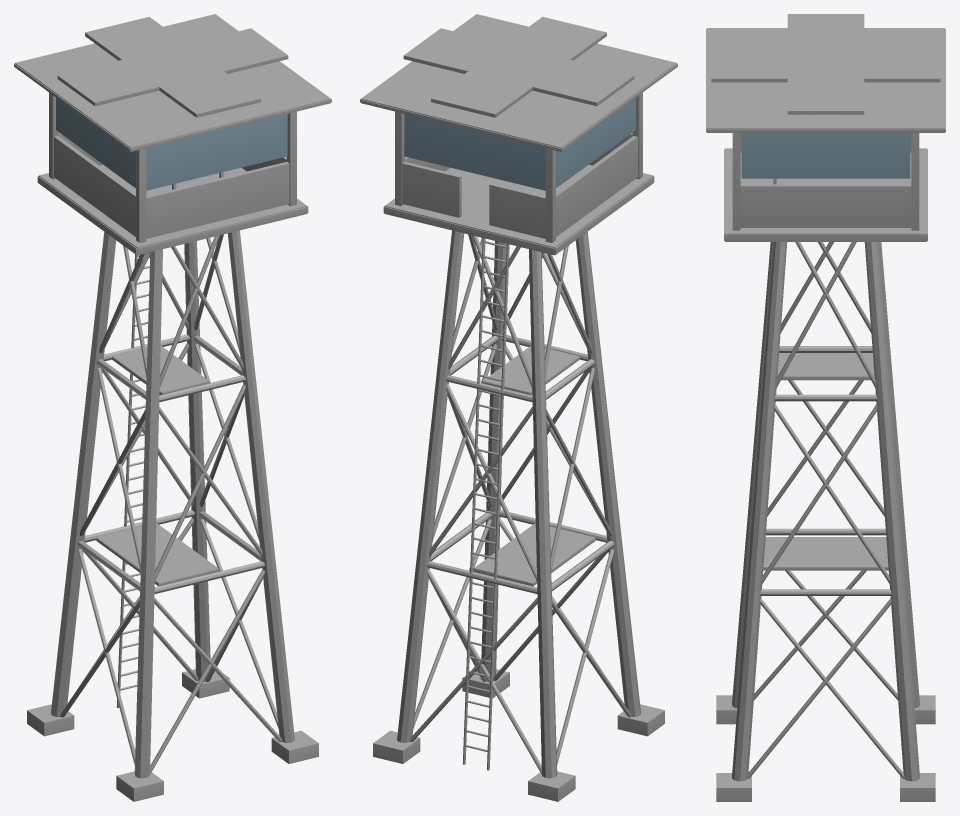
Rendered from tower.glb.
3 views of the same model, side by side, from view 1: azimuth 30°, elevation 25°; view 2: azimuth 150°, elevation 25°; view 3: azimuth 270°, elevation 25° (orthographic). The views are drawn at different scales.
Visible parts, largest first — view 1: frame, roof, cab, glass; view 2: frame, roof, cab, glass; view 3: frame, roof, cab, glass.
Boxes of the visible parts, <box> form: frame: <box>27,230,318,801</box>; roof: <box>14,14,331,151</box>; cab: <box>37,92,308,586</box>; glass: <box>56,98,287,190</box>; frame: <box>373,230,664,801</box>; roof: <box>360,14,677,151</box>; cab: <box>383,92,654,586</box>; glass: <box>404,98,635,190</box>; frame: <box>716,242,935,801</box>; roof: <box>706,14,945,132</box>; cab: <box>724,133,927,570</box>; glass: <box>741,133,910,178</box>.
Bounding box in the file's own units: 4.7 × 14.99 × 4.7.
